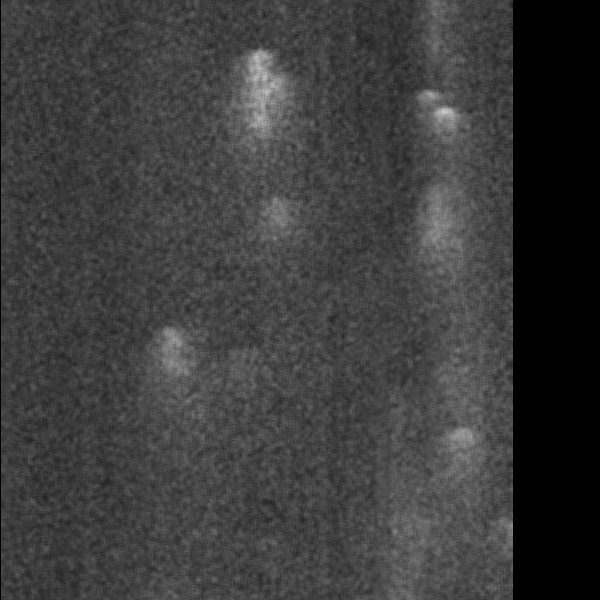spark: (378, 493, 510, 573), (156, 324, 194, 459), (231, 48, 288, 130), (380, 511, 423, 594), (247, 191, 311, 243), (435, 422, 489, 478), (423, 99, 470, 143)
